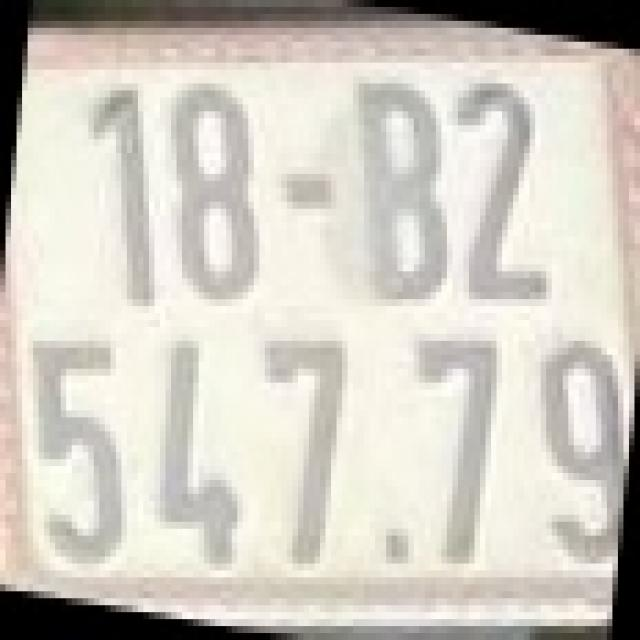1: (88, 77, 160, 306)
2: (452, 70, 558, 306)
4: (149, 327, 248, 570)
5: (27, 327, 127, 563)
7: (259, 327, 353, 563), (408, 327, 502, 563)
8: (171, 77, 259, 306)
9: (535, 334, 629, 563)
B: (348, 70, 452, 306)
